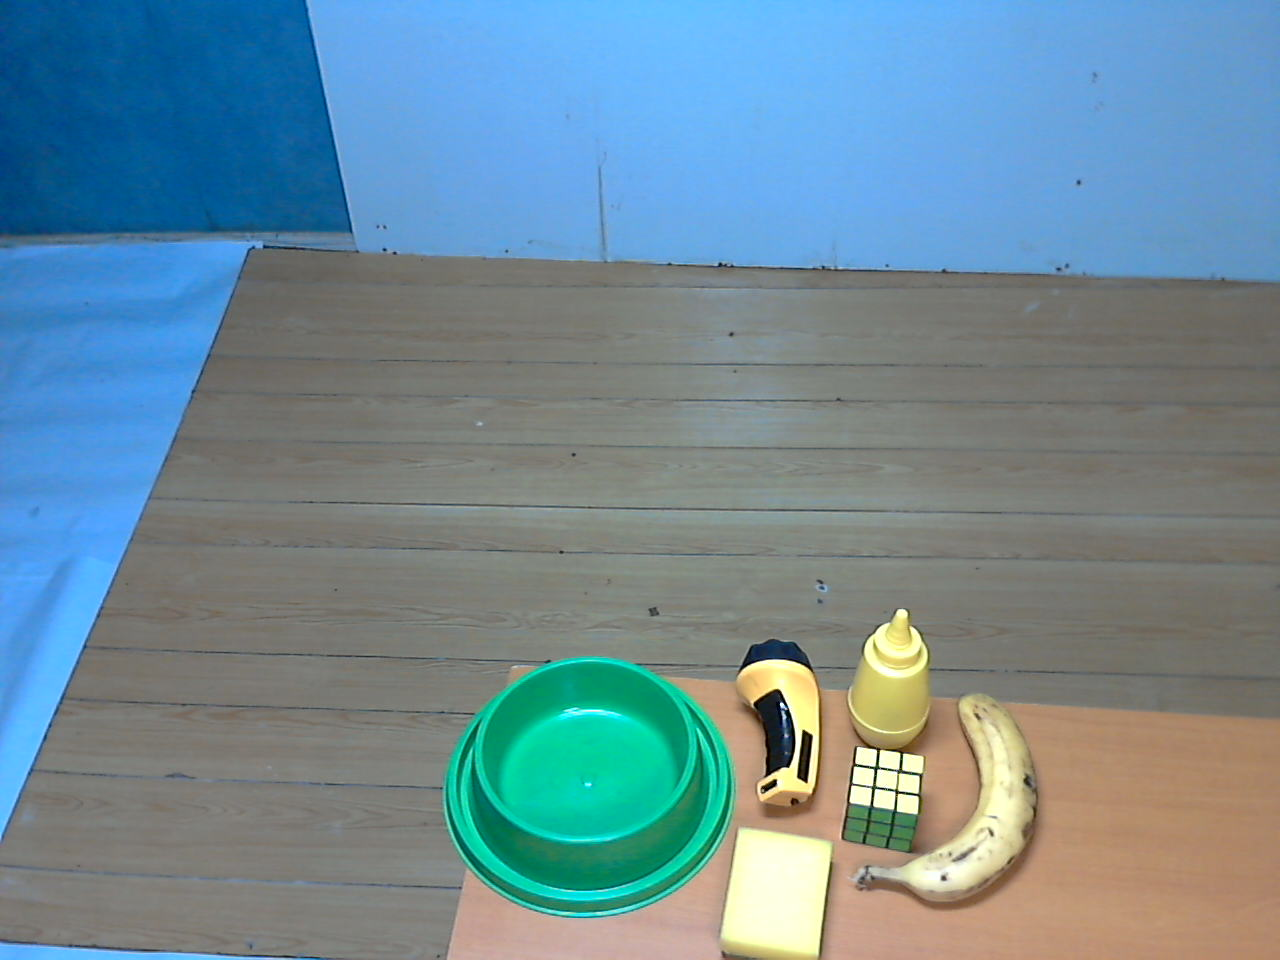cubix: (838, 732, 935, 866)
esponja: (711, 819, 840, 960)
linterna: (729, 632, 833, 816)
mostaza: (838, 603, 946, 756)
platano: (835, 679, 1057, 917)
platoperro: (430, 651, 741, 920)
